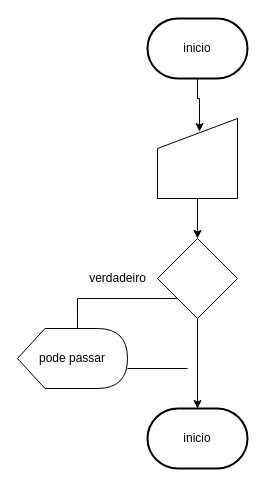
The diagram is 266 pixels wide and 486 high, and some of its shapes have lost their labels. Here are the shapes that lost their labels. From the top down, the centre of each, then its label:
At pixel 197 158: "idade".
At pixel 197 278: "idade+18".
